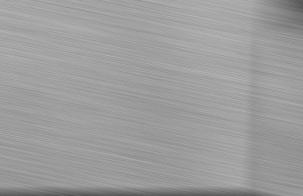Airbag: (0, 0, 303, 196), (285, 0, 303, 196), (285, 192, 303, 196)
